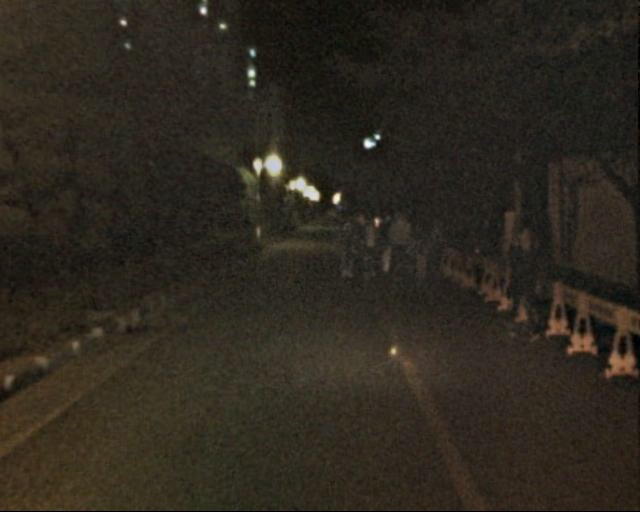person: (496, 229, 546, 351), (383, 212, 415, 290), (333, 217, 360, 282), (425, 220, 451, 283), (409, 227, 434, 288), (356, 223, 380, 281), (372, 223, 393, 273)
